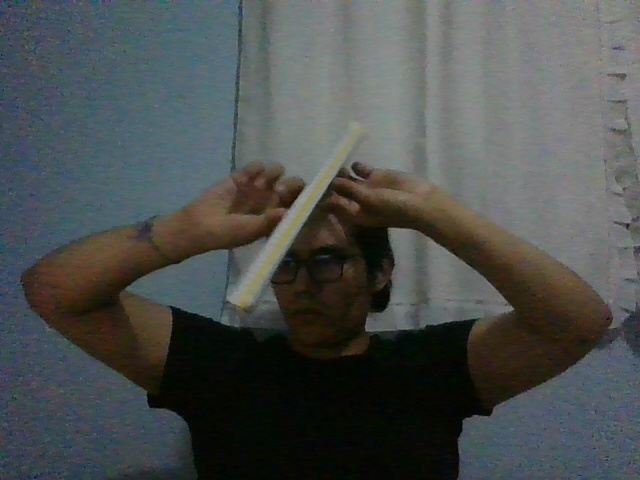regla: (224, 122, 371, 314)
